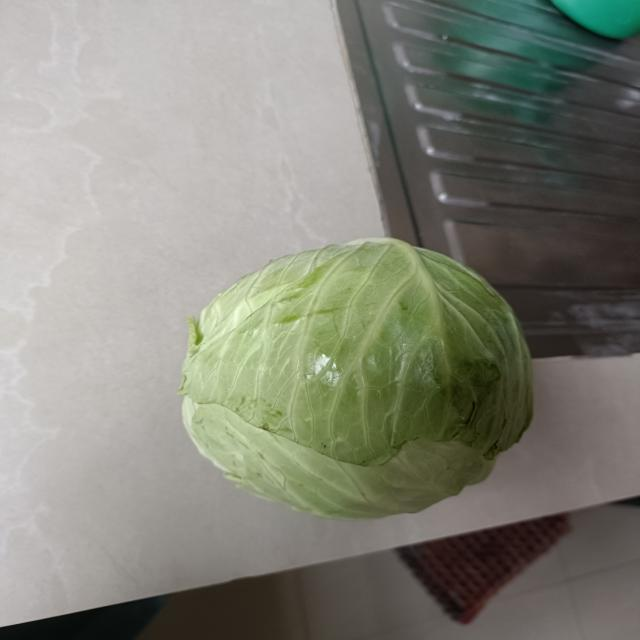cabbage: (170, 231, 538, 521)
